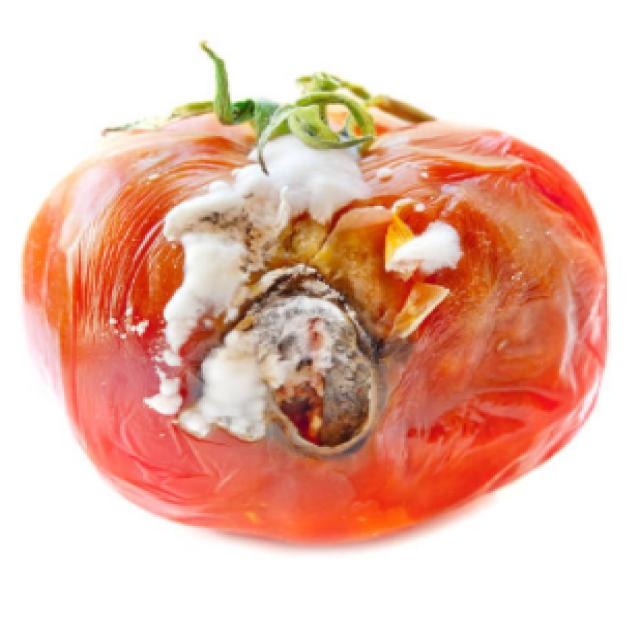Wet Waste: (5, 82, 614, 544)
